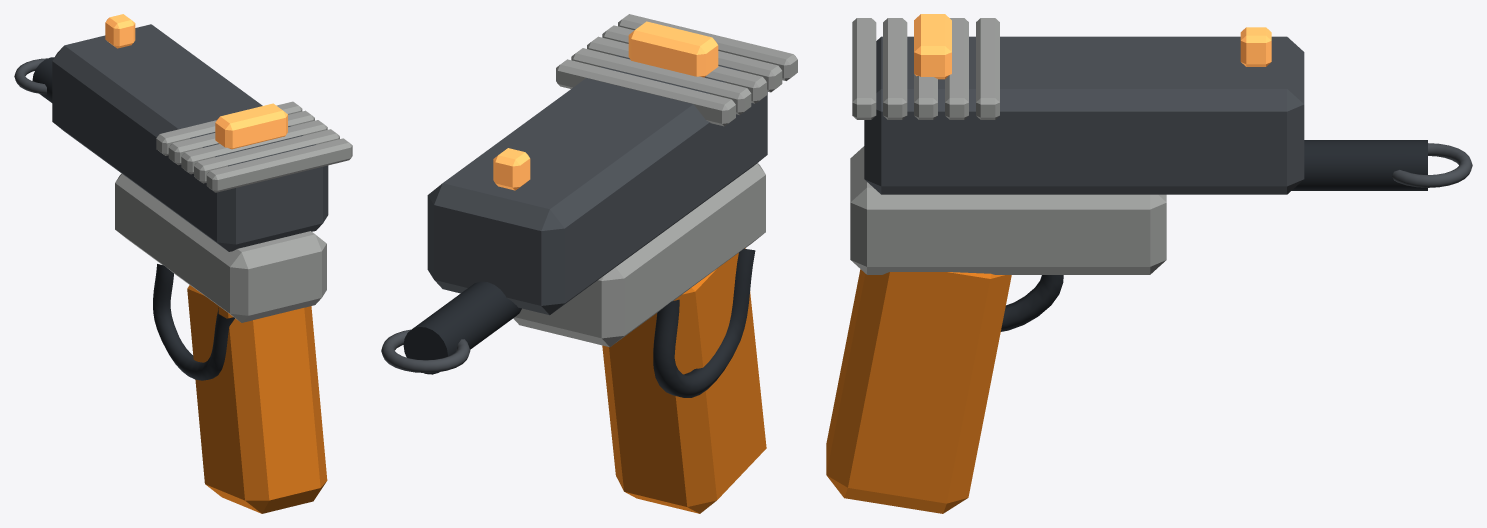
The model's file is arena-pistol.glb.
3 renders of one model, left to right at view 1: azimuth 30°, elevation 25°; view 2: azimuth 150°, elevation 25°; view 3: azimuth 270°, elevation 25°, orthographic. The views are drawn at different scales.
Visible parts, largest first — view 1: PistolSlide, PistolGrip, PistolFrame, PistolSlideRibs, PistolTriggerGuard, PistolRearSight, PistolFrontSight, PistolMuzzleCollar, PistolMuzzleBarrel; view 2: PistolSlide, PistolGrip, PistolFrame, PistolSlideRibs, PistolMuzzleBarrel, PistolTriggerGuard, PistolRearSight, PistolMuzzleCollar, PistolFrontSight; view 3: PistolSlide, PistolGrip, PistolFrame, PistolSlideRibs, PistolMuzzleBarrel, PistolRearSight, PistolTriggerGuard, PistolMuzzleCollar, PistolFrontSight.
Part boxes in pixels (box(x1,y1,x2,y2)): PistolSlide: box(52, 24, 328, 251); PistolGrip: box(187, 285, 327, 513); PistolFrame: box(115, 173, 326, 322); PistolSlideRibs: box(156, 101, 352, 192); PistolTriggerGuard: box(153, 264, 234, 380); PistolRearSight: box(215, 103, 287, 149); PistolFrontSight: box(105, 14, 135, 48); PistolMuzzleCollar: box(14, 58, 47, 94); PistolMuzzleBarrel: box(32, 57, 54, 102); PistolSlide: box(427, 55, 767, 315); PistolGrip: box(602, 248, 766, 513); PistolFrame: box(513, 163, 765, 347); PistolSlideRibs: box(556, 14, 797, 126); PistolMuzzleBarrel: box(403, 281, 521, 374); PistolTriggerGuard: box(653, 248, 755, 397); PistolRearSight: box(628, 21, 718, 77); PistolMuzzleCollar: box(381, 329, 470, 372); PistolFrontSight: box(493, 148, 530, 190); PistolSlide: box(864, 36, 1304, 194); PistolGrip: box(826, 269, 1011, 513); PistolFrame: box(850, 146, 1166, 274); PistolSlideRibs: box(852, 18, 999, 119); PistolMuzzleBarrel: box(1292, 140, 1427, 190); PistolRearSight: box(914, 14, 951, 79); PistolTriggerGuard: box(1001, 275, 1063, 331); PistolMuzzleCollar: box(1392, 143, 1472, 187); PistolFrontSight: box(1240, 27, 1271, 66).
Size of the model in its own units: 0.29 by 0.7519 by 0.9401.
